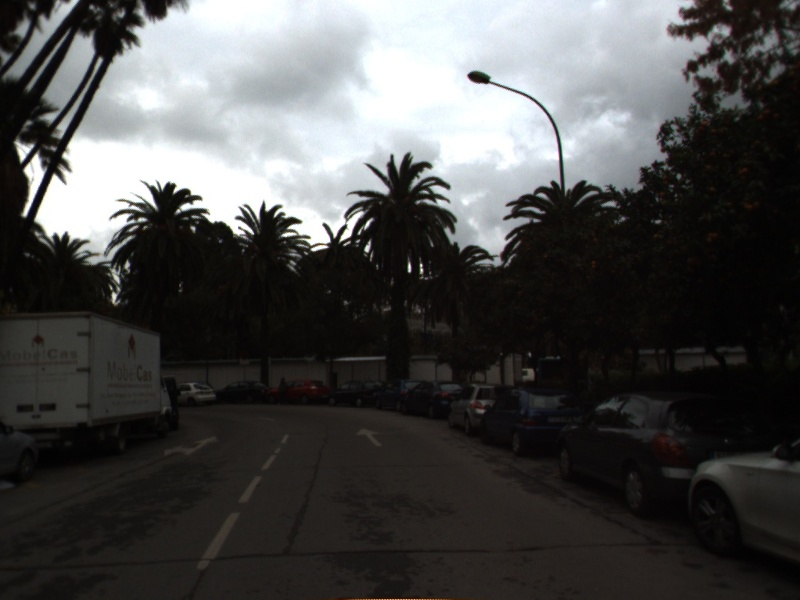STRAIGHT: (354, 426, 385, 448)
STRAIGHT_LEFT: (162, 434, 220, 459)
